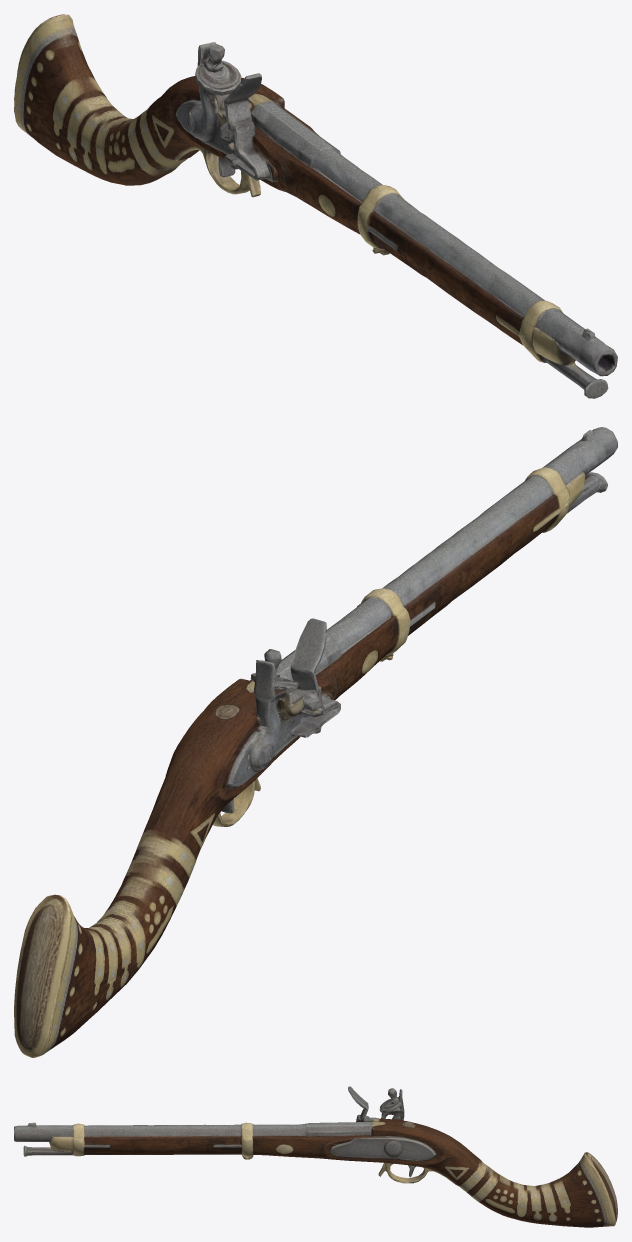
Rendered from flintlock_pistol.high.glb.
3 views of the same model, one above another, from view 1: azimuth 30°, elevation 25°; view 2: azimuth 150°, elevation 25°; view 3: azimuth 270°, elevation 25° (orthographic). The views are drawn at different scales.
Parts seen in each view (by area): view 1: mesh_node; view 2: mesh_node; view 3: mesh_node.
Boxes of the visible parts, left/top/right/bottom form: mesh_node: left=14, top=14, right=617, bottom=398; mesh_node: left=14, top=427, right=617, bottom=1057; mesh_node: left=14, top=1086, right=617, bottom=1227.
Bounding box in the file's own units: 0.0459 × 0.1345 × 0.56.
1 material, 1 textured.
